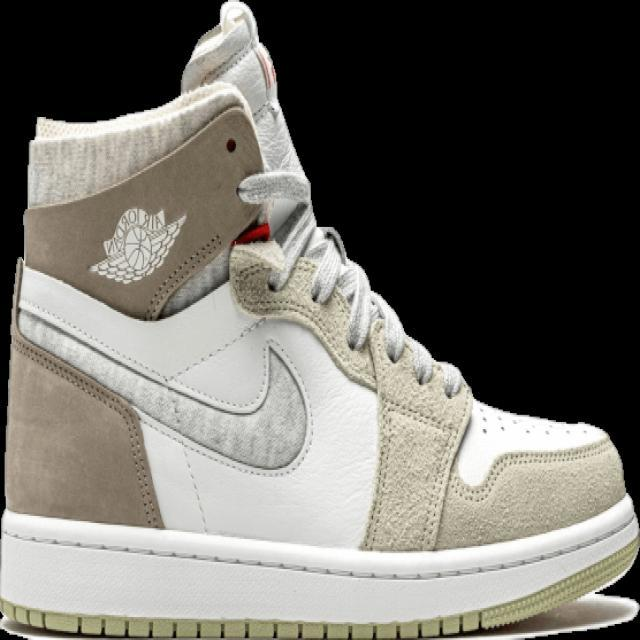J1_InsoleChar: (0, 0, 639, 639)
J1_MateComp: (22, 80, 268, 320)
J1_ShoeLogo: (86, 204, 187, 285)
J1_StitchPattern: (0, 502, 638, 638), (230, 207, 472, 552), (12, 295, 312, 475), (270, 209, 461, 397), (11, 330, 165, 529), (0, 592, 638, 639), (360, 323, 470, 552), (453, 434, 618, 505), (303, 225, 382, 351), (141, 230, 226, 322), (472, 400, 601, 442)
